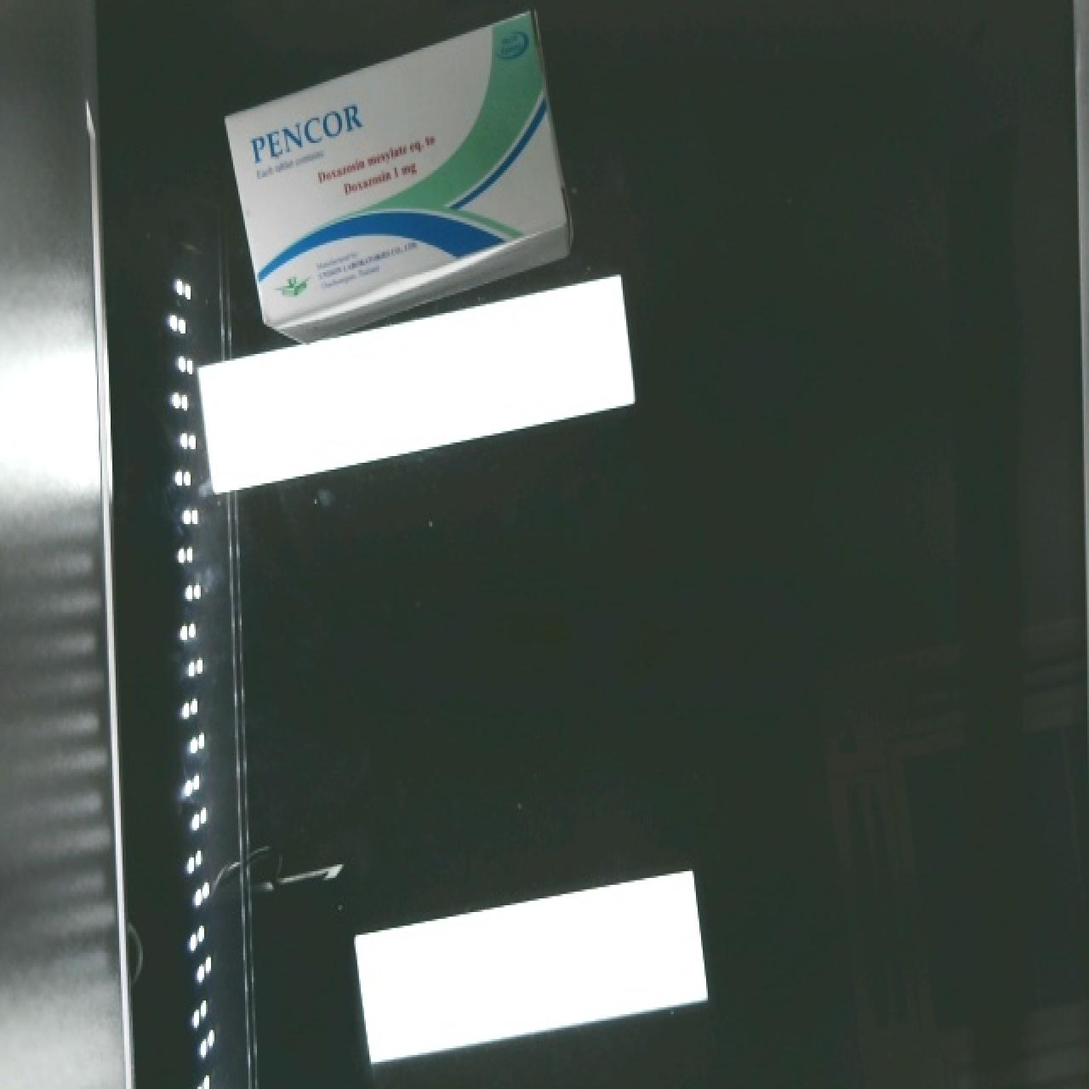medicine_label_obb: (226, 72, 388, 179)
